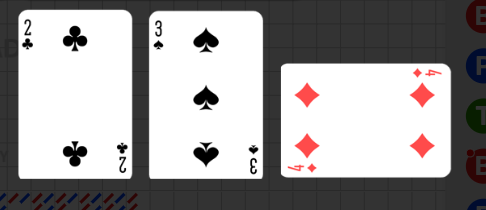2C: (115, 140, 129, 174)
3S: (247, 142, 260, 176)
4D: (411, 67, 442, 79)
